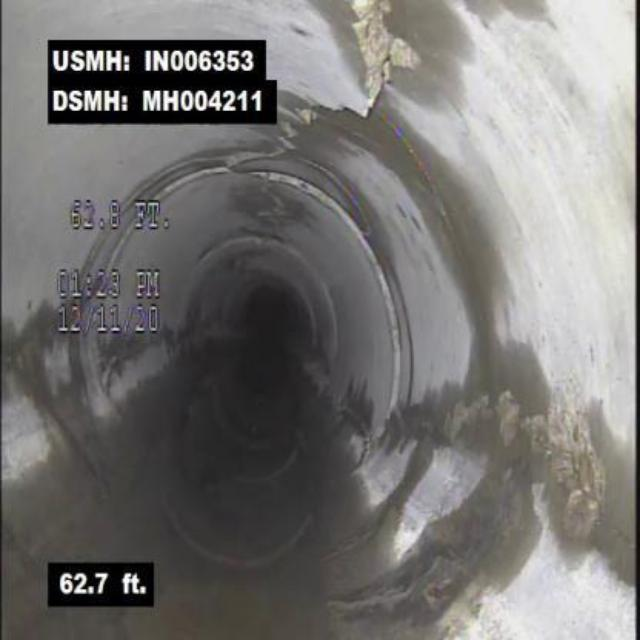Buckling: (338, 0, 405, 125), (225, 143, 294, 177)
Crack: (302, 155, 346, 191)
